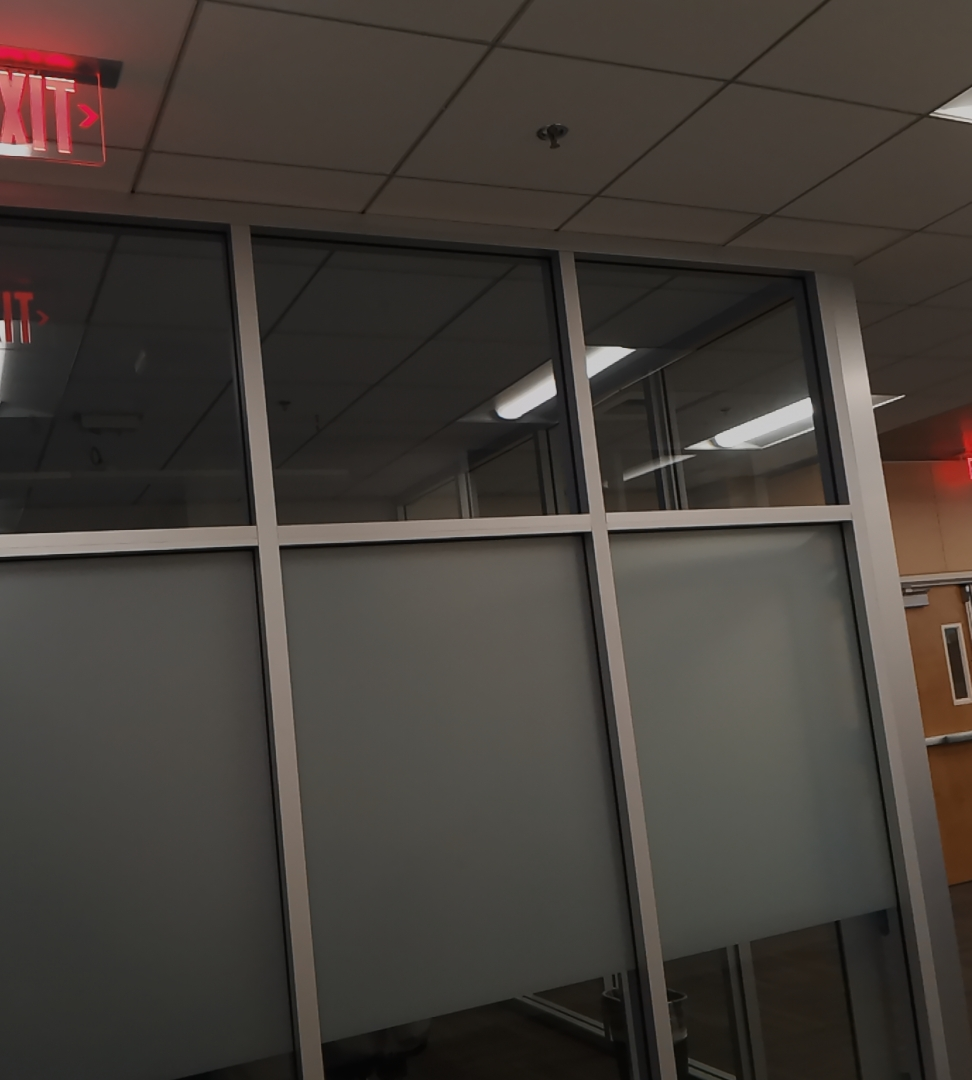emergency_exit: (0, 46, 111, 169)
